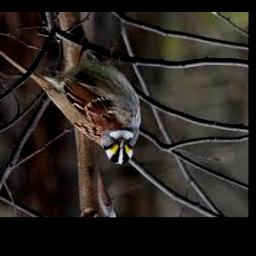Sparrow: (0, 45, 141, 165)
